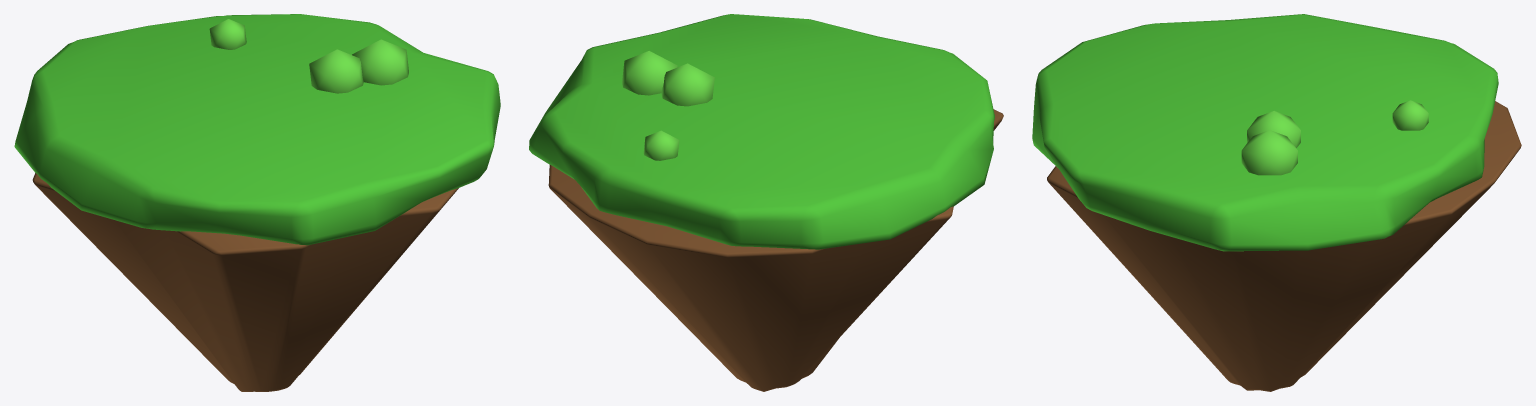
Rendered from island_c.glb.
3 renders of one model, left to right at view 1: azimuth 30°, elevation 25°; view 2: azimuth 150°, elevation 25°; view 3: azimuth 270°, elevation 25°, orthographic. The views are drawn at different scales.
Visible parts, largest first — view 1: island_c; view 2: island_c; view 3: island_c.
Boxes of the visible parts, x1,y1,x2,y2 form: island_c: (14,14,500,391); island_c: (529,14,1003,391); island_c: (1032,14,1521,391).
Size of the model in its own units: 2.51 by 1.74 by 2.49.
